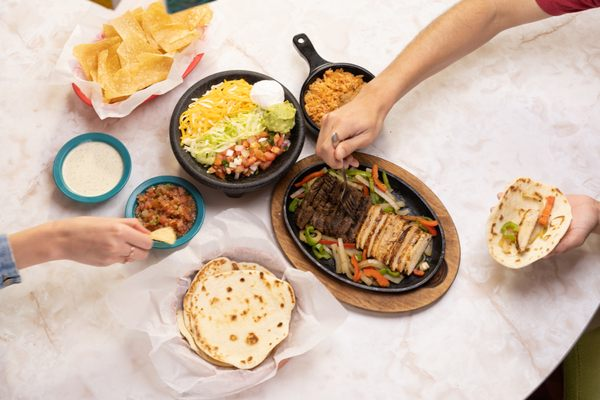sushi: (272, 149, 463, 314), (168, 68, 304, 196), (292, 32, 376, 131), (123, 173, 207, 250)
